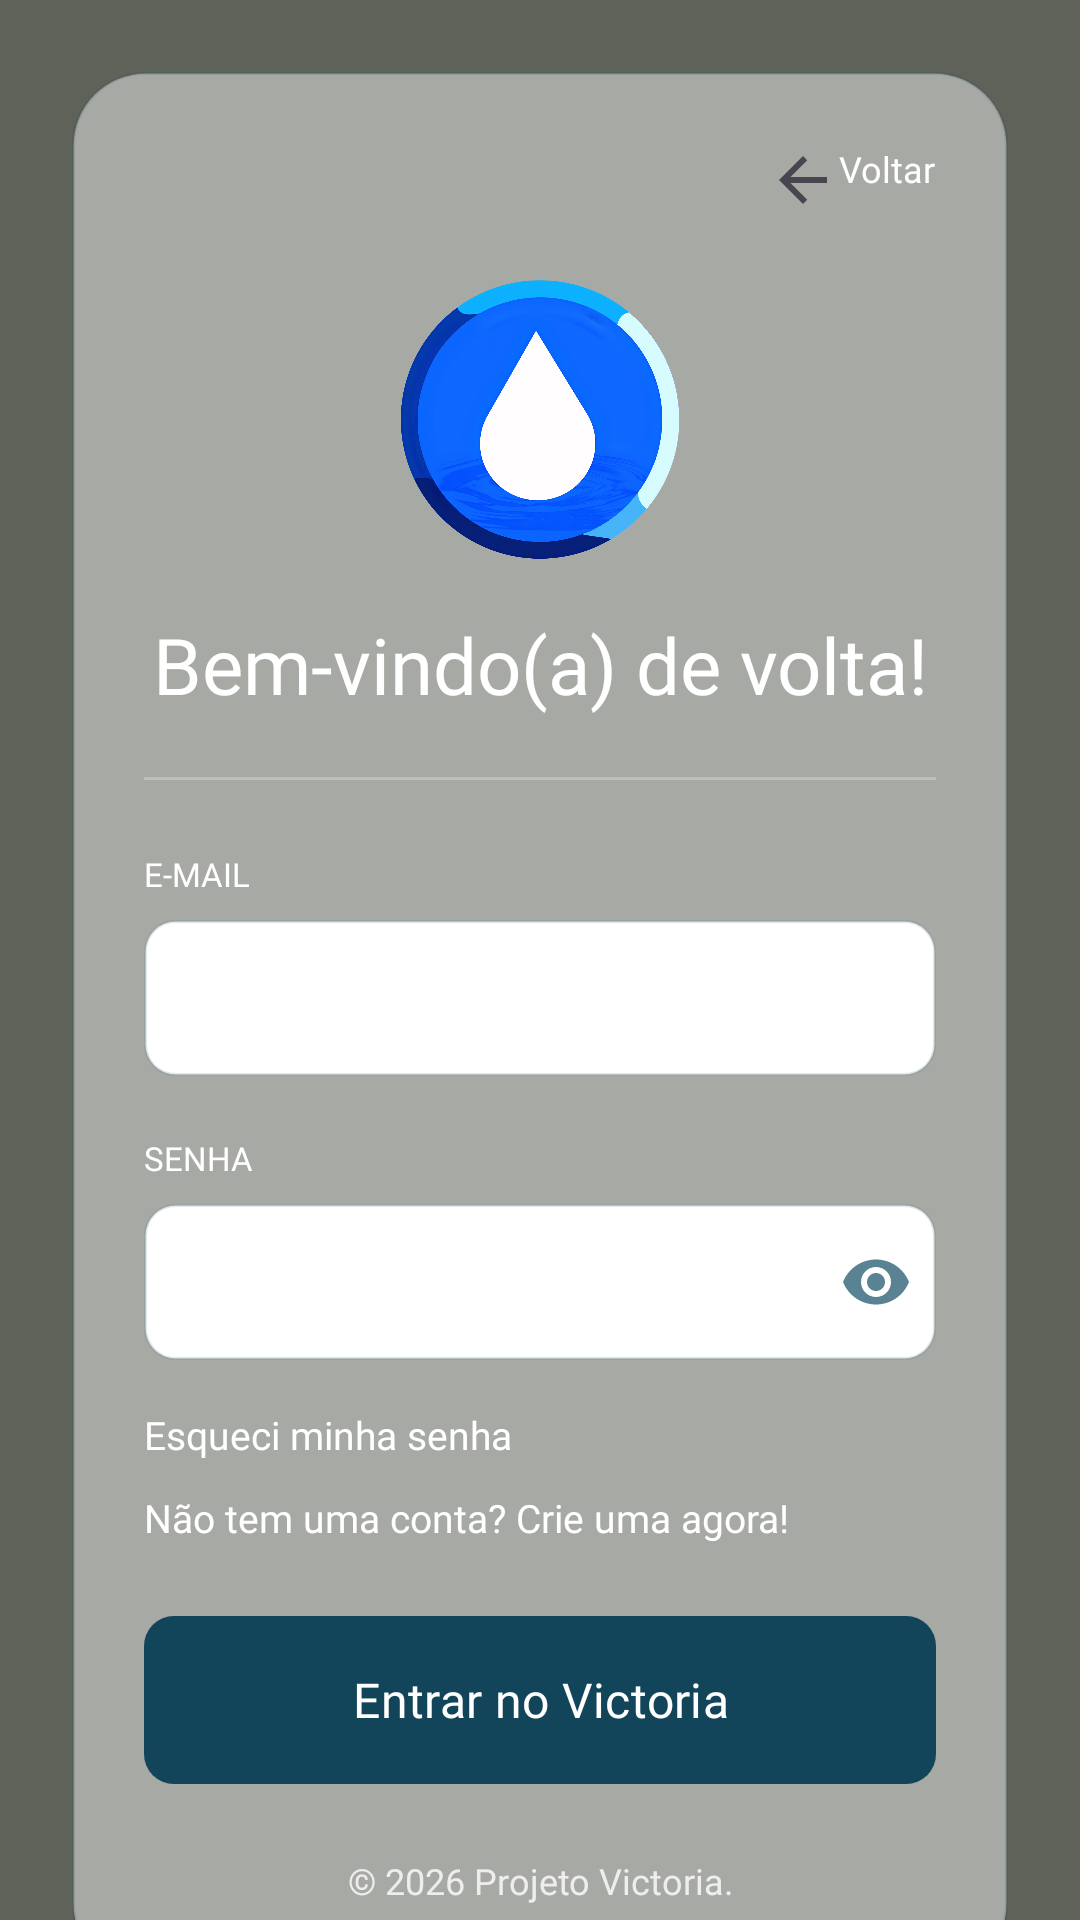

Where icons sit on this 1080x1920 app screen, as box(x1, y1, x2, y2):
olho: box(843, 1259, 909, 1305)
